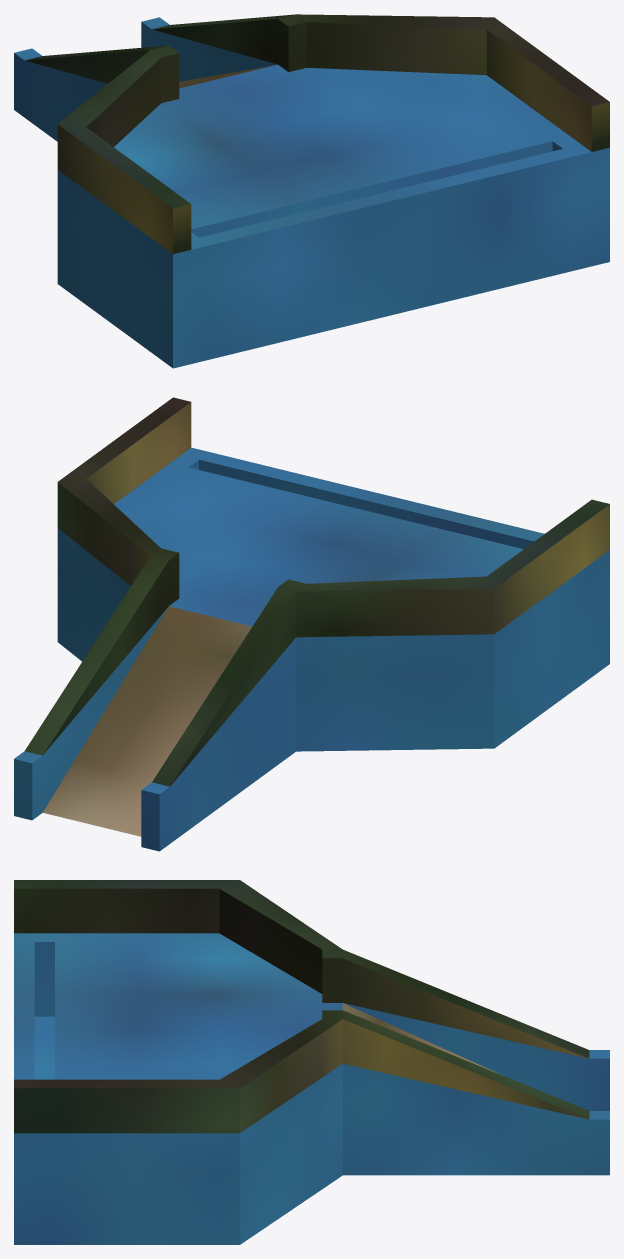
File: Ramp.fbx
3 renders of one model, top to bottom at view 1: azimuth 30°, elevation 25°; view 2: azimuth 150°, elevation 25°; view 3: azimuth 270°, elevation 25°, orthographic. The views are drawn at different scales.
Parts seen in each view (by area): view 1: Ramp Iridia Gate; view 2: Ramp Iridia Gate, Ramp Original Full; view 3: Ramp Iridia Gate, Ramp Original Full.
Part boxes in pixels (left/top/right/bottom): Ramp Iridia Gate: left=14, top=14, right=609, bottom=368; Ramp Iridia Gate: left=14, top=397, right=609, bottom=851; Ramp Original Full: left=43, top=606, right=251, bottom=836; Ramp Iridia Gate: left=14, top=880, right=609, bottom=1244; Ramp Original Full: left=342, top=1003, right=502, bottom=1075.
Size of what is drawn, in the model's own units: 600 by 210 by 725.
Materials: 3 (3 with a texture image).
